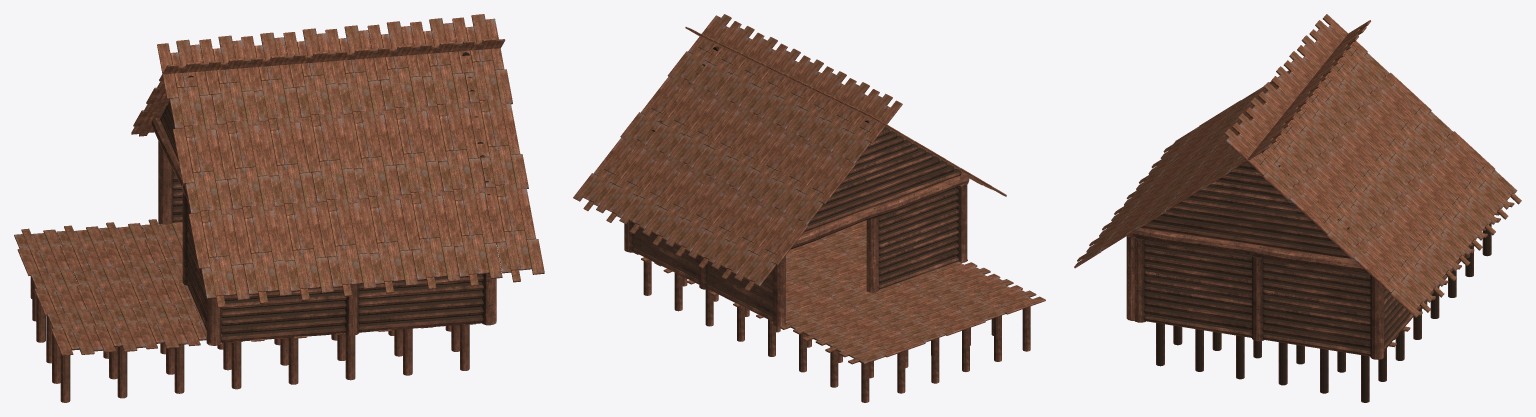
File: Granja.fbx
The picture shows the model from 3 angles, left to right: view 1: azimuth 30°, elevation 25°; view 2: azimuth 150°, elevation 25°; view 3: azimuth 270°, elevation 25°; orthographic projection. The views are drawn at different scales.
Parts seen in each view (by area): view 1: pCylinder39; view 2: pCylinder39; view 3: pCylinder39.
Part boxes in pixels (x1=…): pCylinder39: x1=14, y1=14, x2=544, y2=402; pCylinder39: x1=573, y1=14, x2=1045, y2=402; pCylinder39: x1=1074, y1=14, x2=1521, y2=402.
Size of the model in its own units: 15.53 by 8.71 by 13.55.
